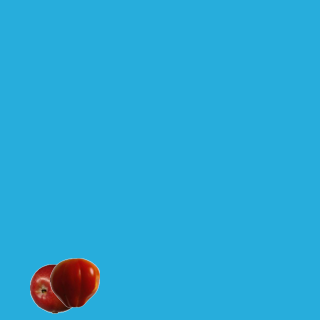Apple Braeburn: (29, 263, 79, 313)
Tomato 1: (49, 257, 99, 307)
